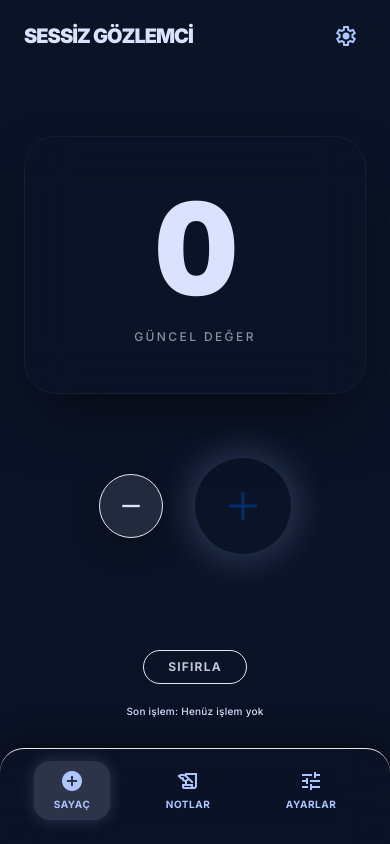
Scenario: App integration › navigates to settings screen
Click the text "AYARLAR" at (311, 804), box [286,797,336,812]
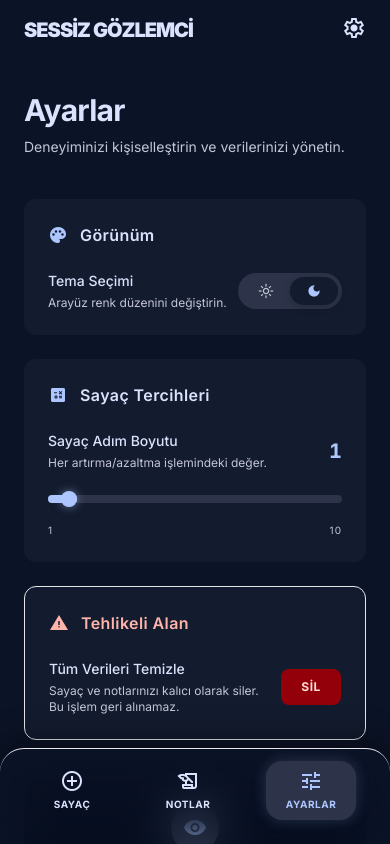
expect the heading "Ayarlar" is shown: met, box [24,92,125,128]
expect the heading "Görünüm" is shown: met, box [80,223,155,247]
